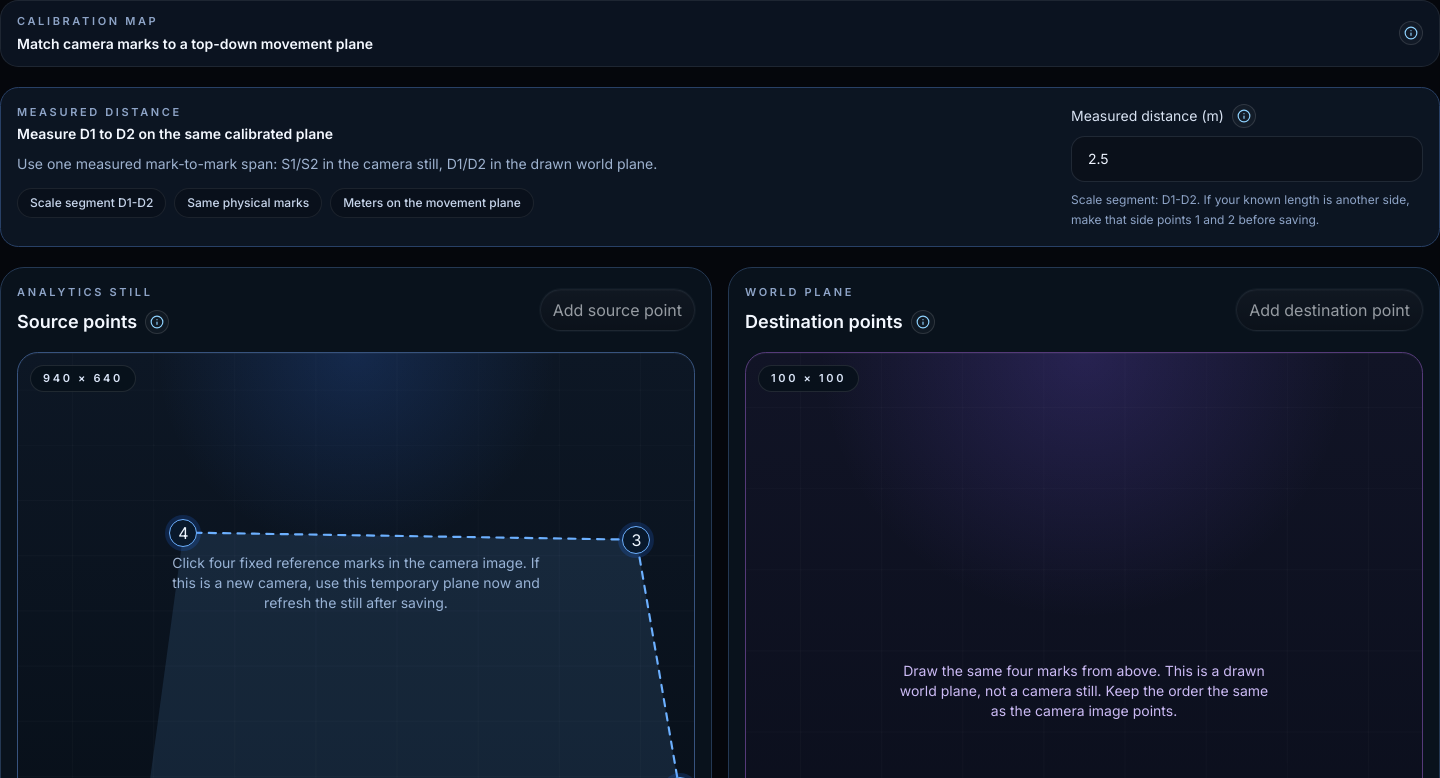
HomographyEditor › shows a real-world example for setting the measured distance
The width and height of the screenshot is (1440, 778).
Click the button named "show measured distance help" at [1244, 116], box [1232,104,1256,128]
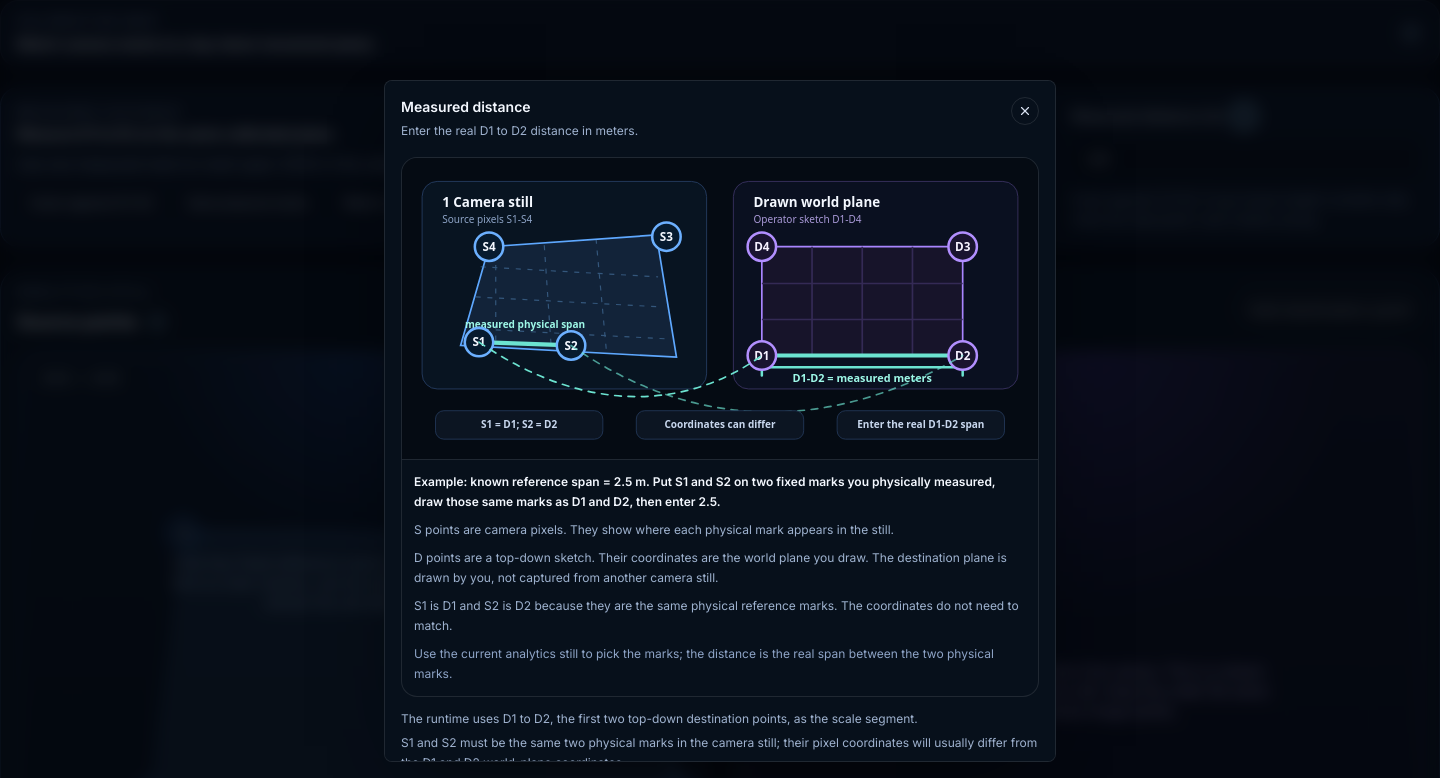
Check: the picture named "calibrated span measured distance example" is shown, box [402,158,1038,459]
Check: the text "Example: known reference span = 2.5 m" is shown, box [414,474,996,509]
Check: the text "S points are camera pixels" is shown, box [414,522,894,537]
